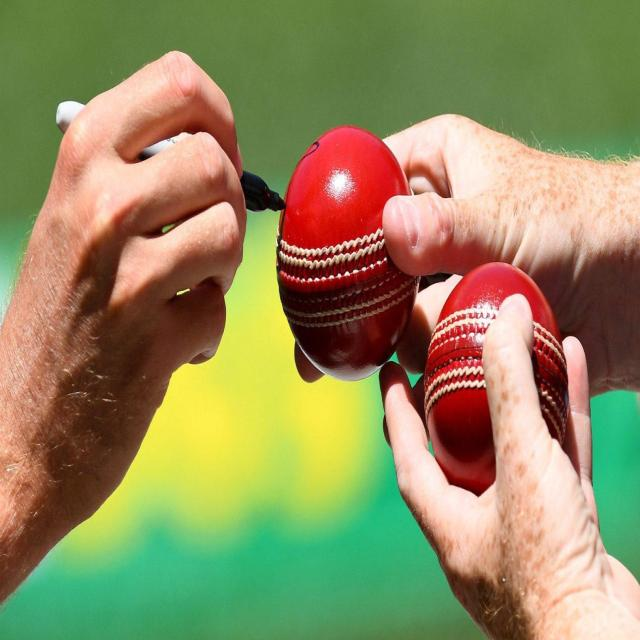ball: (278, 129, 415, 383), (423, 261, 569, 491)
